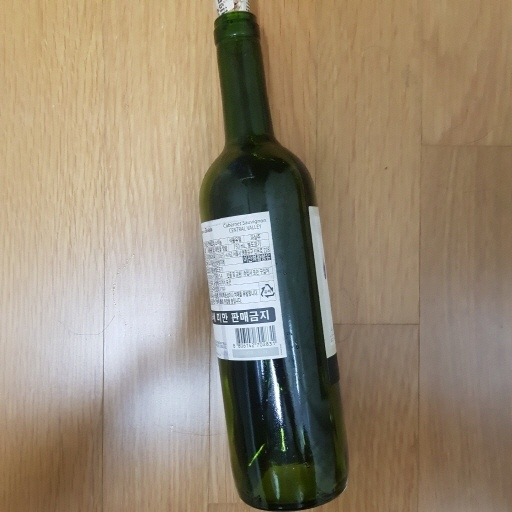Glass_2: (187, 3, 360, 512)
